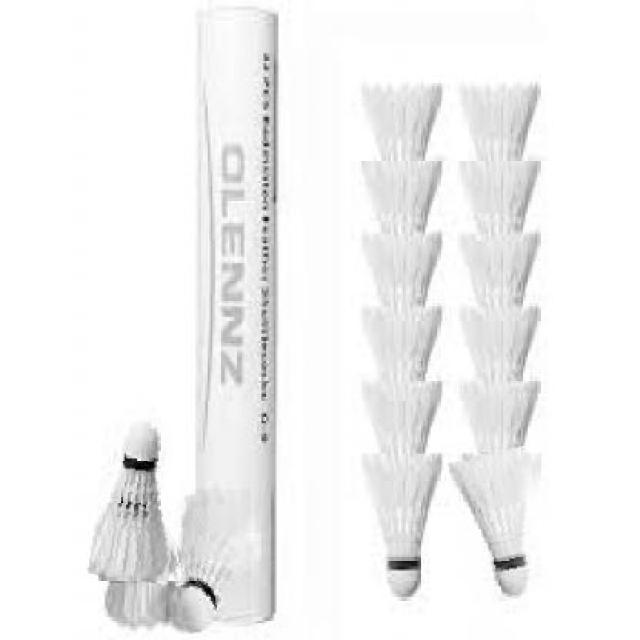Shuttlecock: (452, 449, 550, 603), (94, 414, 183, 583), (166, 490, 251, 632)
